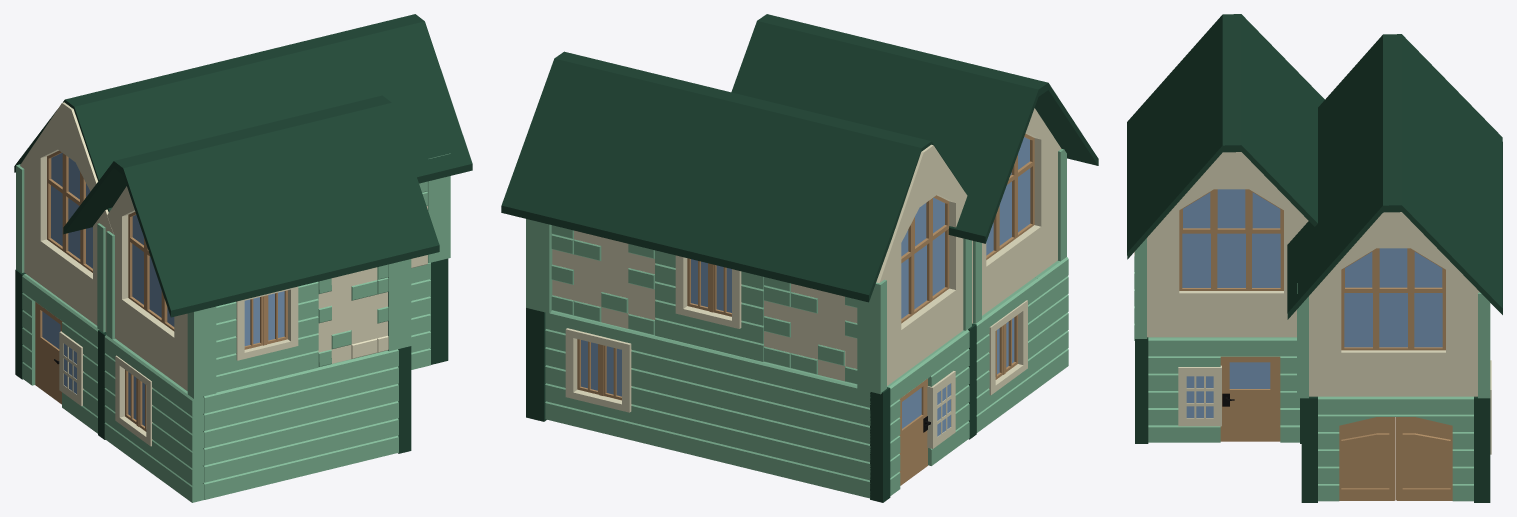
The model's file is House_03.obj.
The picture shows the model from 3 angles, left to right: view 1: azimuth 30°, elevation 25°; view 2: azimuth 150°, elevation 25°; view 3: azimuth 270°, elevation 25°; orthographic projection. The views are drawn at different scales.
Parts seen in each view (by area): view 1: House_03_Cube.004; view 2: House_03_Cube.004; view 3: House_03_Cube.004.
Boxes of the visible parts, <box> form: House_03_Cube.004: <box>14,14,472,502</box>; House_03_Cube.004: <box>501,14,1098,502</box>; House_03_Cube.004: <box>1127,14,1502,502</box>.
Size of the model in its own units: 12.73 by 9.91 by 10.85.
